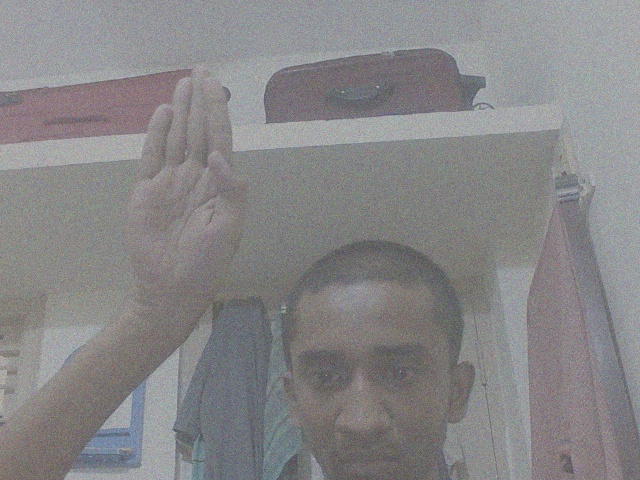hand: (122, 59, 251, 327)
